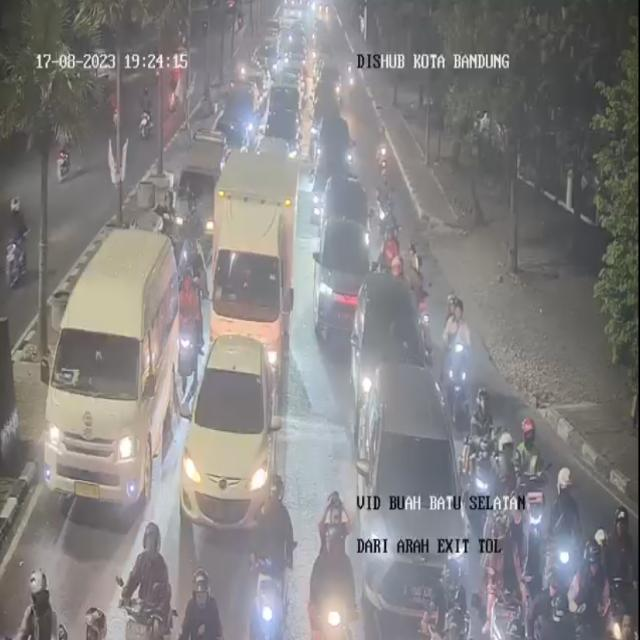cars: (46, 221, 180, 516), (365, 346, 474, 640), (180, 326, 282, 532), (347, 267, 420, 427), (318, 212, 372, 335), (268, 87, 302, 178), (322, 168, 367, 234)
motorcycle: (304, 489, 360, 640), (252, 470, 299, 640), (490, 493, 534, 640), (546, 459, 583, 609), (130, 524, 173, 638), (462, 380, 498, 514), (571, 521, 606, 638), (0, 409, 27, 550), (426, 552, 469, 638), (442, 292, 472, 413), (515, 409, 545, 527), (180, 564, 224, 638), (13, 570, 58, 640), (183, 240, 205, 330), (76, 603, 114, 640), (370, 170, 391, 229), (380, 223, 400, 283), (406, 238, 425, 292), (345, 136, 362, 187), (372, 128, 389, 174)
truck: (210, 141, 300, 370)
